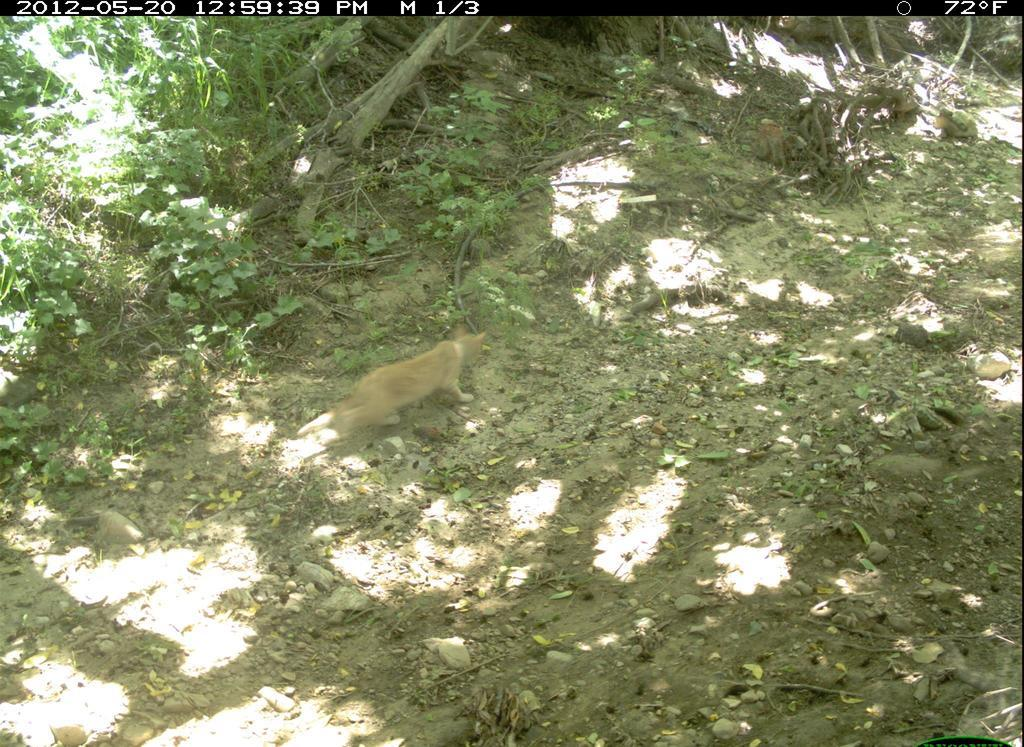cat: (299, 318, 491, 457)
